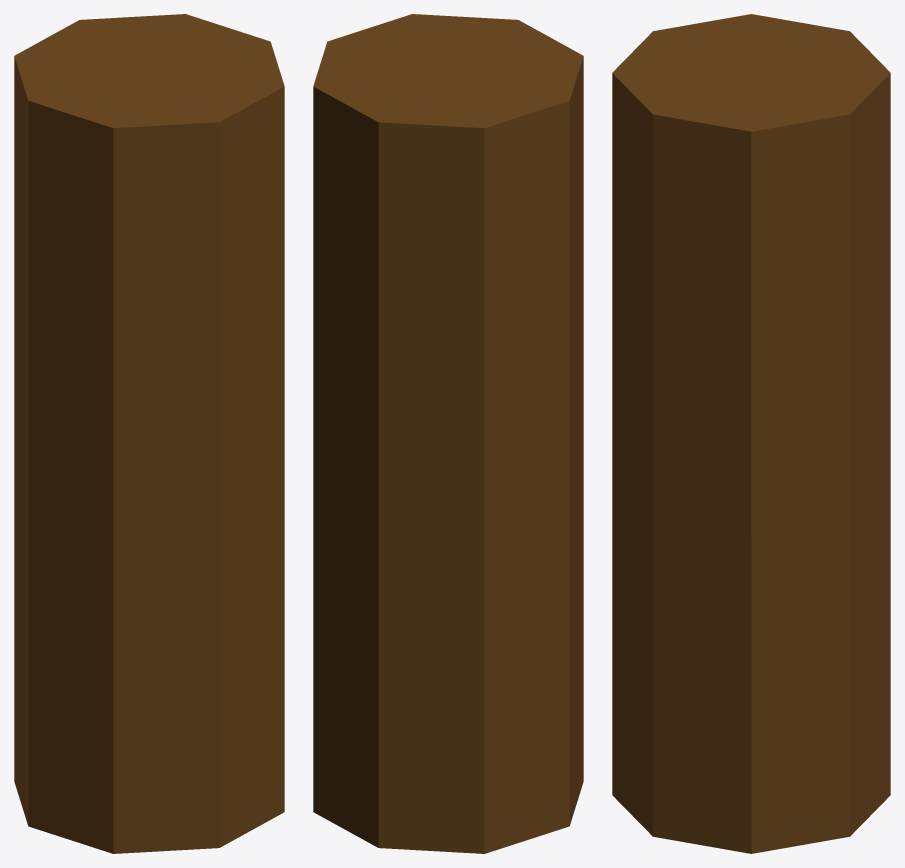
The model's file is WindowPart_01.fbx.
3 renders of one model, left to right at view 1: azimuth 30°, elevation 25°; view 2: azimuth 150°, elevation 25°; view 3: azimuth 270°, elevation 25°, orthographic.
Visible parts, largest first — view 1: WindowPart_01; view 2: WindowPart_01; view 3: WindowPart_01.
Part boxes in pixels (x1,y1,x2,y2): WindowPart_01: [14, 14, 284, 853]; WindowPart_01: [313, 14, 583, 853]; WindowPart_01: [612, 14, 890, 853].
Bounding box in the file's own units: 2.37 × 6.78 × 2.37.
